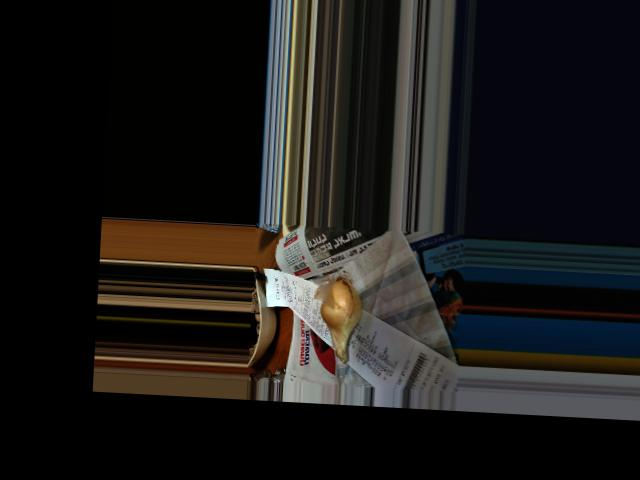onion: (315, 278, 371, 357)
